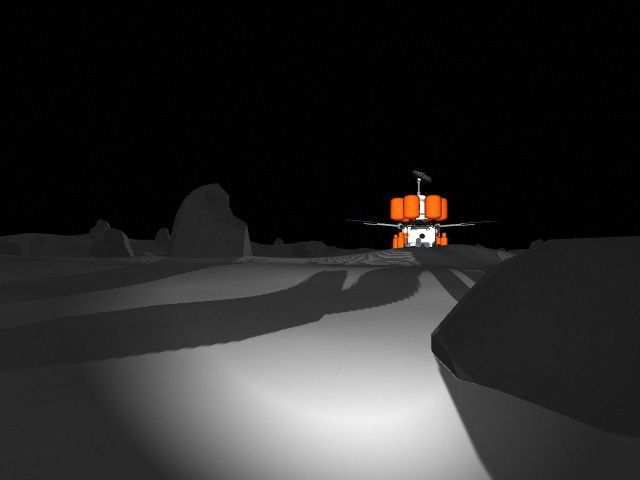homebase: (340, 167, 494, 258)
